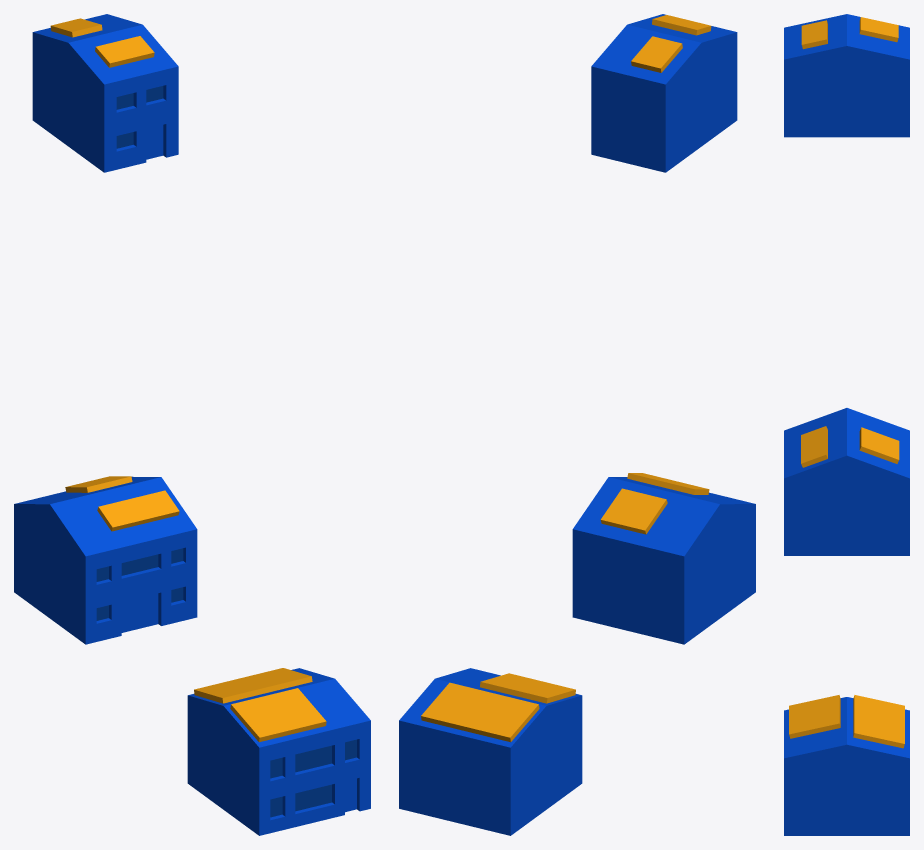
The model's file is BinaGrup2.gltf.
3 renders of one model, left to right at view 1: azimuth 30°, elevation 25°; view 2: azimuth 150°, elevation 25°; view 3: azimuth 270°, elevation 25°, orthographic. The views are drawn at different scales.
Visible parts, largest first — view 1: Building_075.017, Building_083.017, Building_073.017, Building_083_RoofCap_0.001, Building_083_RoofCap_1.001, Building_083.019, Building_075_RoofCap_0.001, Building_073_RoofCap_0.001, Building_075.019, Building_075.018, Building_073.019, Building_073_RoofCap_1.001 (+1 smaller); view 2: Building_075.017, Building_083.017, Building_073.017, Building_083_RoofCap_1.001, Building_075_RoofCap_1.001, Building_083_RoofCap_0.001, Building_073_RoofCap_1.001, Building_075_RoofCap_0.001, Building_073_RoofCap_0.001; view 3: Building_075.017, Building_073.017, Building_083.017, Building_083_RoofCap_1.001, Building_083_RoofCap_0.001, Building_075_RoofCap_1.001, Building_075_RoofCap_0.001, Building_073_RoofCap_1.001, Building_073_RoofCap_0.001.
Boxes of the visible parts, box(x1,y1,x2,y2) form: Building_075.017: box(14, 476, 197, 644); Building_083.017: box(187, 668, 370, 835); Building_073.017: box(32, 14, 178, 172); Building_083_RoofCap_0.001: box(230, 688, 326, 742); Building_083_RoofCap_1.001: box(194, 668, 312, 703); Building_083.019: box(270, 739, 356, 817); Building_075_RoofCap_0.001: box(97, 490, 179, 531); Building_073_RoofCap_0.001: box(95, 36, 154, 67); Building_075.019: box(96, 548, 183, 620); Building_075.018: box(121, 593, 158, 632); Building_073.019: box(116, 86, 163, 148); Building_073_RoofCap_1.001: box(50, 18, 102, 37); Building_075.017: box(572, 477, 755, 644); Building_083.017: box(399, 668, 582, 835); Building_073.017: box(591, 14, 737, 172); Building_083_RoofCap_1.001: box(421, 682, 539, 742); Building_075_RoofCap_1.001: box(600, 488, 667, 534); Building_083_RoofCap_0.001: box(480, 673, 575, 703); Building_073_RoofCap_1.001: box(631, 36, 682, 72); Building_075_RoofCap_0.001: box(627, 473, 709, 494); Building_073_RoofCap_0.001: box(652, 15, 711, 35); Building_075.017: box(784, 408, 909, 555); Building_073.017: box(784, 14, 909, 137); Building_083.017: box(784, 697, 909, 835); Building_083_RoofCap_1.001: box(853, 695, 904, 748); Building_083_RoofCap_0.001: box(789, 695, 840, 738); Building_075_RoofCap_1.001: box(859, 427, 899, 463); Building_075_RoofCap_0.001: box(801, 426, 827, 467); Building_073_RoofCap_1.001: box(859, 17, 898, 42); Building_073_RoofCap_0.001: box(801, 20, 827, 49).
Size of the model in its own units: 0.125 by 0.3379 by 0.0543.
